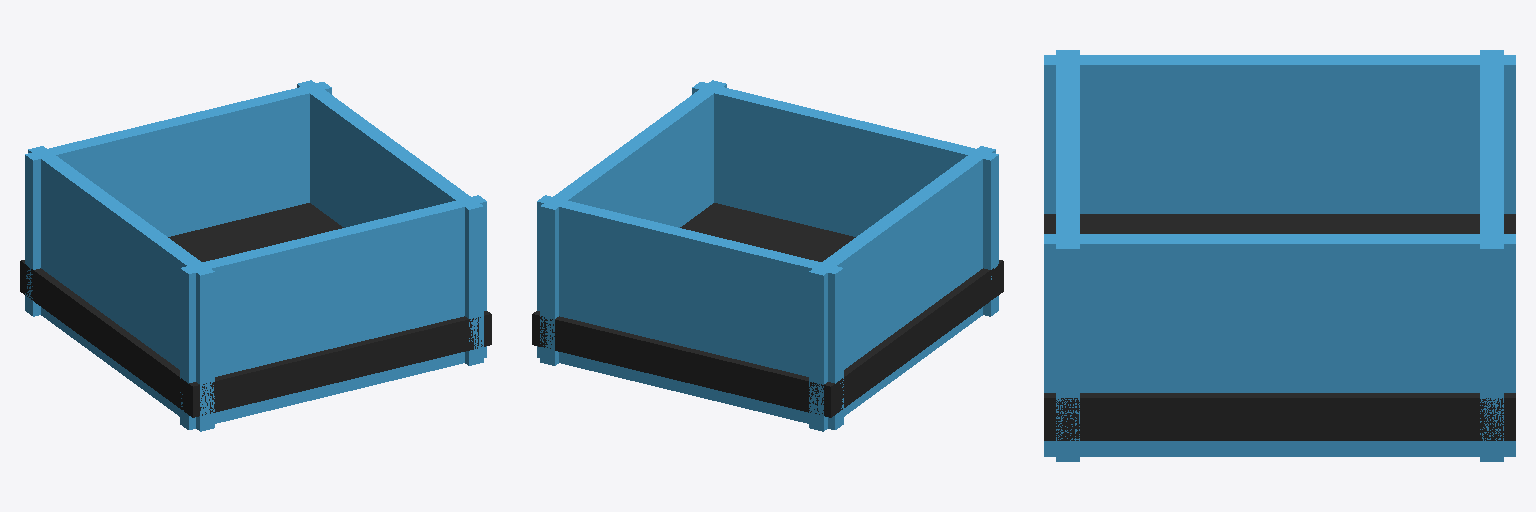
robot.urdf — bowl.urdf:
<?xml version="0.0" ?>
<robot name="bowl.urdf">

  <material name="yellow">
    <color rgba="1 1 0.4 1"/>
  </material>
  <material name="red">
    <color rgba="1 0 0 1"/>
  </material>
  <material name="blue">
    <color rgba=".17 .20 .38 1"/>
  </material>
  <material name="teal">
    <color rgba="0 .5 .5 1"/>
  </material>
  <material name="orange">
    <color rgba=".93 .6 .23 1"/>
  </material>
  <material name="grey">
    <color rgba=".2 .2 .2 0.6"/>
  </material>
  <link name="world"/>

  <link name="base">
    <inertial>
      <origin rpy="0 0 0" xyz="0.0 0.0 0.0"/>
       <mass value=".1"/>
       <inertia ixx="1" ixy="0" ixz="0" iyy="1" iyz="0" izz="1"/>
    </inertial>
    <!-- <visual>
      <origin rpy="0 0 0" xyz="0 0 0"/>
      <geometry>
        <box size="1 1 0.5"/> -->
        <!-- <mesh filename="roboverse/envs/assets/objects/box/box.dae" scale="[phone redacted]"/> -->
      <!-- </geometry>
      <material name="teal"/>
    </visual> -->
    <visual>
      <!-- bottom -->
      <origin rpy="0 0 0" xyz="0 0 -0.15"/>
      <geometry>
        <box size="1 1 .1"/>
      </geometry>
      <material name="grey"/>
    </visual>
    <visual>
      <!-- right -->
      <origin rpy="0 0 0" xyz="0 -.45 0"/>
      <geometry>
        <box size="1 .05 .5"/>
      </geometry>
    </visual>
    <visual>
      <!-- left -->
      <origin rpy="0 0 0" xyz="0 .45 0"/>
      <geometry>
        <box size="1 .05 .5"/>
      </geometry>
    </visual>
    <visual>
      <!-- front -->
      <origin rpy="0 0 0" xyz=".45 0 0"/>
      <geometry>
        <box size=".05 1 .5"/>
      </geometry>
    </visual>
    <visual>
      <!-- back -->
      <origin rpy="0 0 0" xyz="-.45 0 0"/>
      <geometry>
        <box size=".05 1 .5"/>
      </geometry>
    </visual>
    <collision>
      <origin rpy="0 0 0" xyz="0 0 -.3"/>
      <geometry>
        <box size="1.2 1.2 .1"/>
      </geometry>
    </collision>
    <collision>
      <!-- right -->
      <origin rpy="0 0 0" xyz="0 -.45 0"/>
      <geometry>
        <box size="1 .05 .5"/>
      </geometry>
    </collision>
    <collision>
      <!-- left -->
      <origin rpy="0 0 0" xyz="0 .45 0"/>
      <geometry>
        <box size="1 .05 .5"/>
      </geometry>
    </collision>
    <collision>
      <!-- front -->
      <origin rpy="0 0 0" xyz=".45 0 0"/>
      <geometry>
        <box size=".05 1 .5"/>
      </geometry>
    </collision>
    <collision>
      <!-- back -->
      <origin rpy="0 0 0" xyz="-.45 0 0"/>
      <geometry>
        <box size=".05 1 .5"/>
      </geometry>
    </collision>
  </link>

  <joint name="base_joint" type="fixed">
    <parent link="world"/>
    <child link="base"/>
  </joint>

</robot>

--- What the picture shows (computed from the rendered views, not written in the file) ---
3 views of the same robot in one strip: view 1: azimuth 30°, elevation 25°; view 2: azimuth 150°, elevation 25°; view 3: azimuth 270°, elevation 25° (orthographic).
Robot: bowl.urdf — 2 links, 1 joints (1 fixed); root link world; default pose: every joint at zero.
Links seen in each view (by area): view 1: base; view 2: base; view 3: base.
Boxes of the visible links, x1=… form: base: x1=20, y1=80, x2=491, y2=431; base: x1=532, y1=80, x2=1003, y2=431; base: x1=1044, y1=50, x2=1515, y2=461.
Size in the robot's own frame: 1 by 1 by 0.5 metres.
Geometry: primitives only (box / cylinder / sphere), no mesh files.